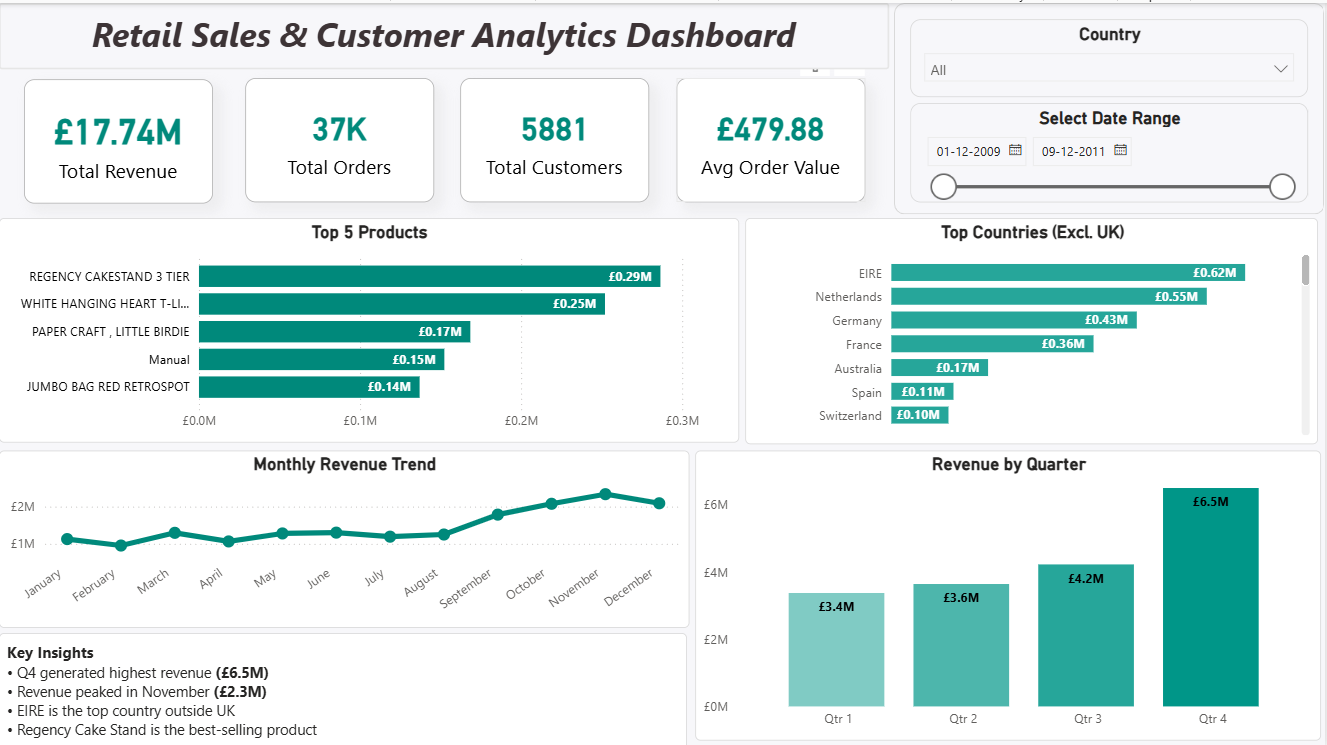

This screenshot's page, from the dashboard's own definition file:
{"tool":"powerbi","page":{"name":"Dashboard","canvas":[1280,720],"ordinal":0},"visuals":[{"type":"shape","box":[864,0,416,204],"z":0},{"type":"card","fields":{"Values":["online_retail_II.Total Orders"]},"box":[237.6,71.9,182,120],"z":1000},{"type":"card","fields":{"Values":["online_retail_II.Total Revenue"]},"box":[24.2,74.2,182,120],"z":2000},{"type":"card","fields":{"Values":["online_retail_II.Total Customers"]},"box":[445.6,71.9,182,120],"z":3000},{"type":"card","fields":{"Values":["online_retail_II.Avg Order Value"]},"box":[653.6,71.9,182,120],"z":4000},{"type":"clusteredBarChart","title":"Top Countries (Excl. UK)","fields":{"Category":["online_retail_II.Country"],"Y":["online_retail_II.Total Revenue"]},"box":[720,208,553,218],"z":5000},{"type":"clusteredBarChart","title":"Top 5 Products ","fields":{"Category":["online_retail_II.Description"],"Y":["online_retail_II.Total Revenue"]},"box":[0,208,714,217],"z":6000},{"type":"textbox","box":[0,0,859,64],"z":7000},{"type":"slicer","title":"Country","fields":{"Values":["online_retail_II.Country"]},"box":[880,16,384,75],"z":8000},{"type":"slicer","title":"Select Date Range","fields":{"Values":["online_retail_II.InvoiceDate"]},"box":[880,96,384,96],"z":9000},{"type":"clusteredColumnChart","title":"Revenue by Quarter","fields":{"Category":["online_retail_II.InvoiceDate.Variation.Date Hierarchy.Quarter"],"Y":["online_retail_II.Total Revenue"]},"box":[672,432,604,280],"z":10000},{"type":"lineChart","title":" Monthly Revenue Trend ","fields":{"Category":["online_retail_II.InvoiceDate.Variation.Date Hierarchy.Month"],"Y":["online_retail_II.Total Revenue"]},"box":[0,432,666,171],"z":11000},{"type":"textbox","box":[0,608,664,112],"z":12000}]}

Visuals, with their boxes in screenshot pixels (x1, y1, x2, y2), scaled from the page's 1280x720 canvas onto the 1327x745 screenshot:
shape: left=896, top=0, right=1326, bottom=211
card - online_retail_II.Total Orders: left=246, top=74, right=435, bottom=199
card - online_retail_II.Total Revenue: left=25, top=77, right=214, bottom=201
card - online_retail_II.Total Customers: left=462, top=74, right=651, bottom=199
card - online_retail_II.Avg Order Value: left=678, top=74, right=866, bottom=199
"Top Countries (Excl. UK)" clusteredBarChart: left=746, top=215, right=1320, bottom=441
"Top 5 Products " clusteredBarChart: left=0, top=215, right=740, bottom=440
textbox: left=0, top=0, right=891, bottom=66
"Country" slicer: left=912, top=17, right=1310, bottom=94
"Select Date Range" slicer: left=912, top=99, right=1310, bottom=199
"Revenue by Quarter" clusteredColumnChart: left=697, top=447, right=1323, bottom=737
" Monthly Revenue Trend " lineChart: left=0, top=447, right=690, bottom=624
textbox: left=0, top=629, right=688, bottom=744
